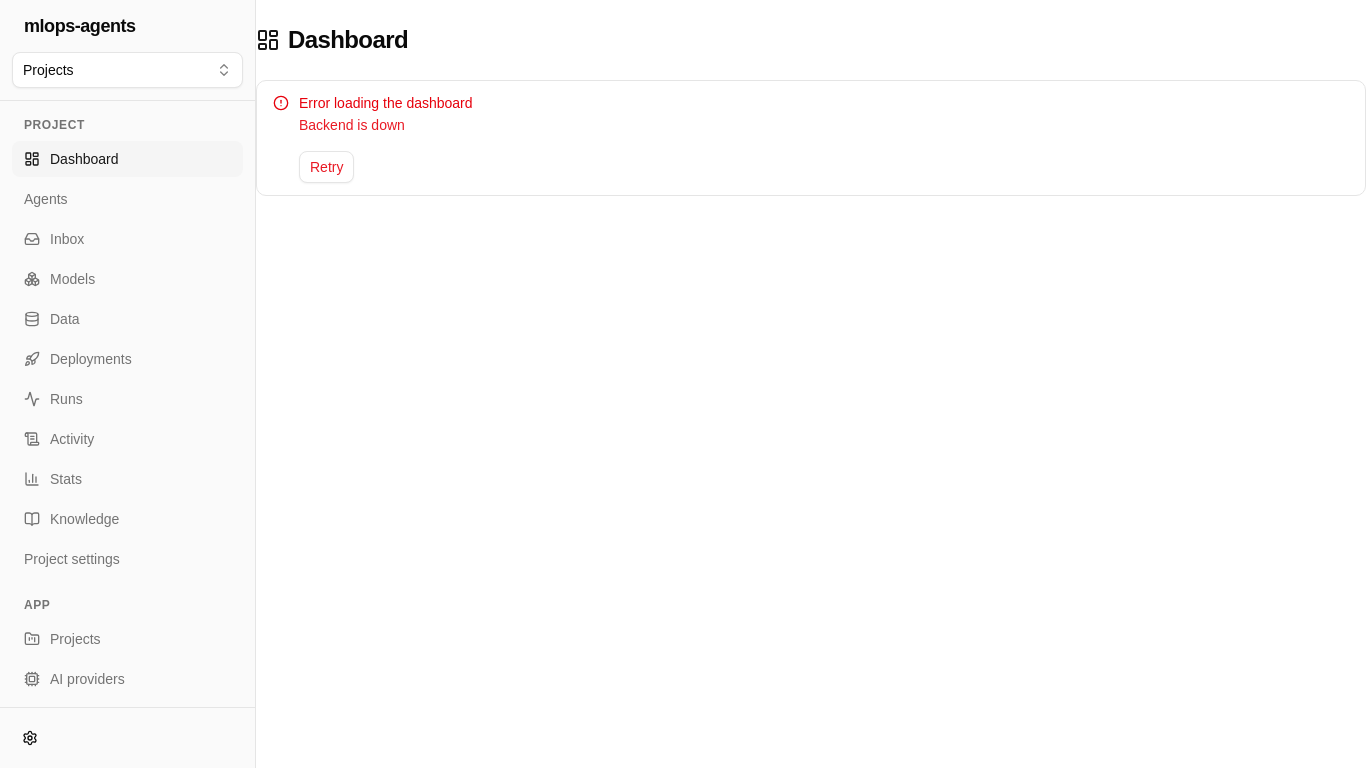
Test case: DashboardPage › shows the error with a retry that refetches
Expected: the text "Backend is down" is shown, [299, 117, 405, 133]
Click the button "Retry".
click(327, 167)  # box [299, 151, 354, 183]
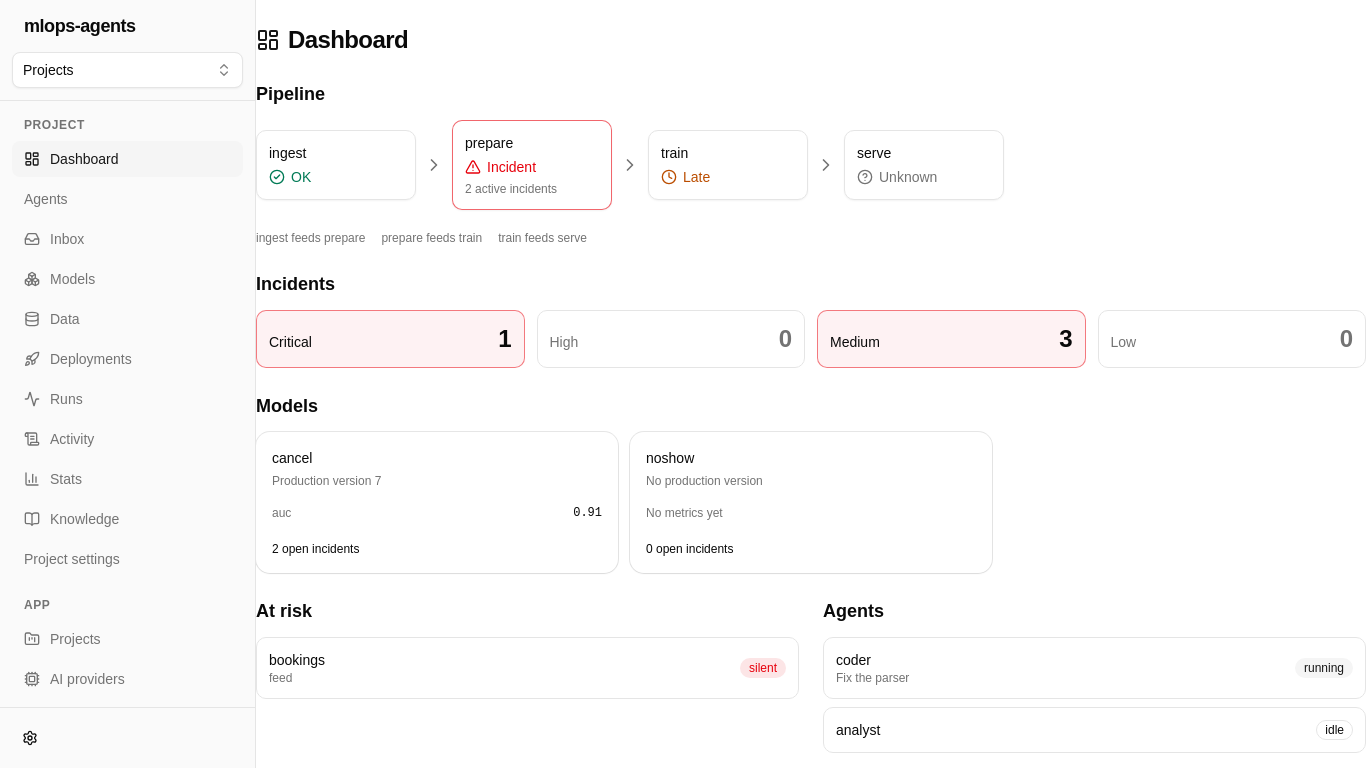
Expected: the element named "Pipeline map" is shown, [256, 120, 1004, 245]
